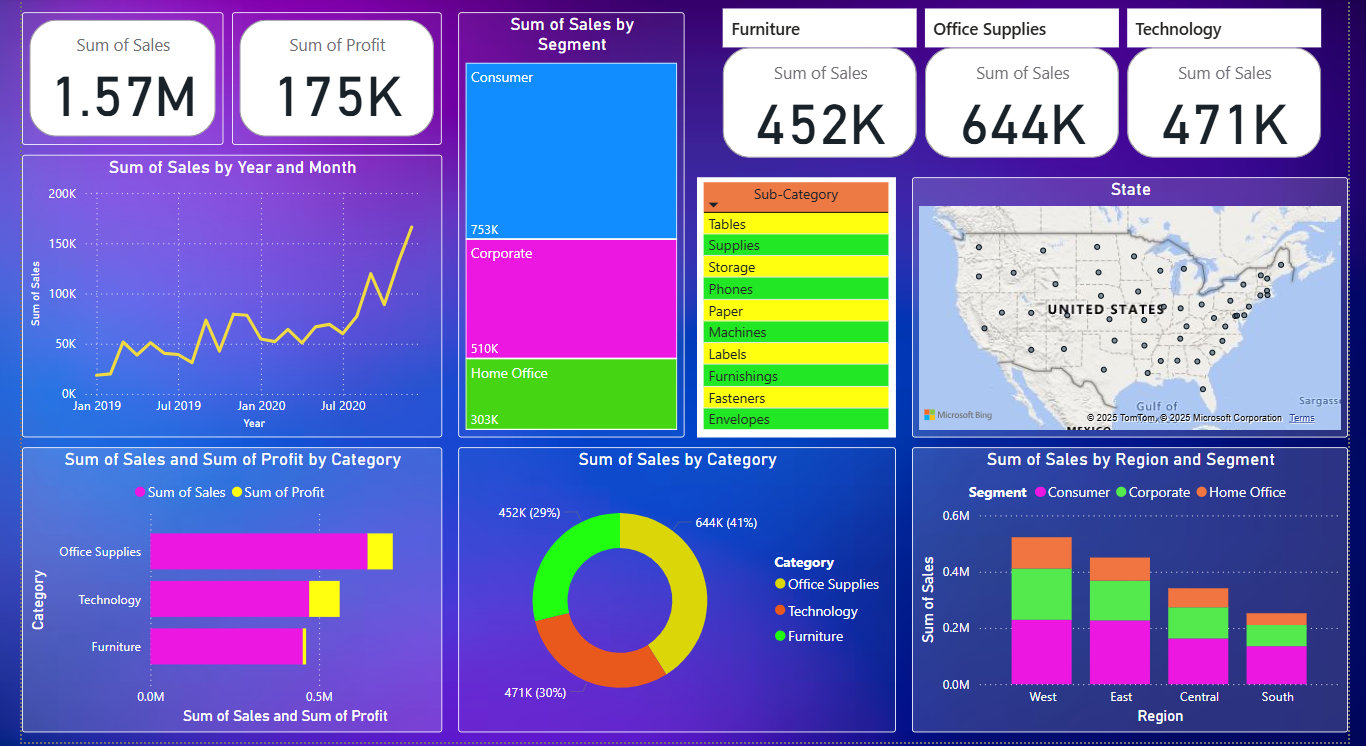

The page's visual inventory and layout, read from the dashboard file:
{"tool":"powerbi","page":{"name":"Page 1","canvas":[1280,720],"ordinal":0},"visuals":[{"type":"lineChart","fields":{"Category":["sales data.Order Date.Variation.Date Hierarchy.Year","sales data.Order Date.Variation.Date Hierarchy.Month"],"Y":["Sum(sales data.Sales)"]},"box":[0,153.2,405.4,272.7],"z":0},{"type":"barChart","fields":{"Category":["sales data.Category"],"Y":["Sum(sales data.Sales)","Sum(sales data.Profit)"]},"box":[0,435.5,405.4,275.1],"z":1000},{"type":"columnChart","fields":{"Category":["sales data.Region"],"Y":["Sum(sales data.Sales)"],"Series":["sales data.Segment"]},"box":[859,435.5,421,275.1],"z":2000},{"type":"cardVisual","fields":{"Data":["Sum(sales data.Sales)"]},"box":[0,15.7,194.2,127.9],"z":3000},{"type":"cardVisual","fields":{"Data":["Sum(sales data.Profit)"]},"box":[202.7,15.7,202.7,127.9],"z":4000},{"type":"treemap","fields":{"Group":["sales data.Segment"],"Values":["Sum(sales data.Sales)"]},"box":[421,15.7,218.4,410.2],"z":5000},{"type":"map","fields":{"Category":["sales data.State"]},"box":[859,174.9,421,250.9],"z":6000},{"type":"donutChart","fields":{"Category":["sales data.Category"],"Y":["Sum(sales data.Sales)"]},"box":[421,435.5,422.3,275.1],"z":7000},{"type":"tableEx","fields":{"Values":["sales data.Sub-Category"]},"box":[651.5,174.9,191.8,250.9],"z":8000},{"type":"cardVisual","fields":{"Rows":["sales data.Category"],"Data":["Sum(sales data.Sales)"]},"box":[651.5,7.2,628.6,154.4],"z":9000}]}

Visuals, with their boxes in screenshot pixels (x1, y1, x2, y2), scaled from the page's 1280x720 canvas onto the 1366x746 screenshot:
lineChart - sales data.Order Date.Variation.Date Hierarchy.Year x sales data.Order Date.Variation.Date Hierarchy.Month: bbox=(0, 159, 433, 441)
barChart - sales data.Category x Sum(sales data.Sales): bbox=(0, 451, 433, 736)
columnChart - sales data.Region x Sum(sales data.Sales): bbox=(917, 451, 1365, 736)
cardVisual - Sum(sales data.Sales): bbox=(0, 16, 207, 149)
cardVisual - Sum(sales data.Profit): bbox=(216, 16, 433, 149)
treemap - sales data.Segment x Sum(sales data.Sales): bbox=(449, 16, 682, 441)
map - sales data.State: bbox=(917, 181, 1365, 441)
donutChart - sales data.Category x Sum(sales data.Sales): bbox=(449, 451, 900, 736)
tableEx - sales data.Sub-Category: bbox=(695, 181, 900, 441)
cardVisual - sales data.Category x Sum(sales data.Sales): bbox=(695, 7, 1365, 167)
